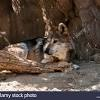Lobo: (2, 23, 74, 76)
